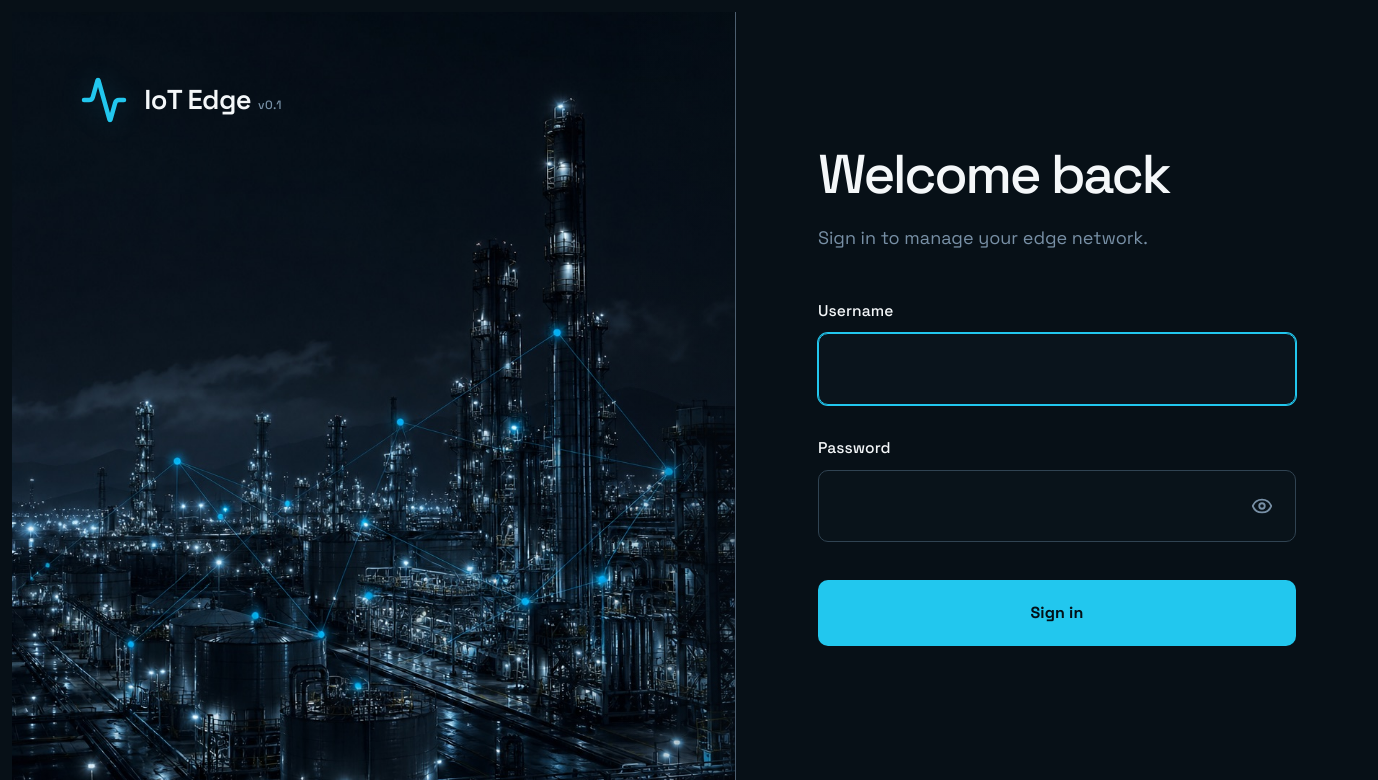
Scenario: LoginPage › clears partial session state and shows an API error
This screenshot has width=1378, height=780.
Type "admin" into the field labelled "Username". click: x=1057, y=369
box: top-left (818, 333), bottom-right (1296, 405)
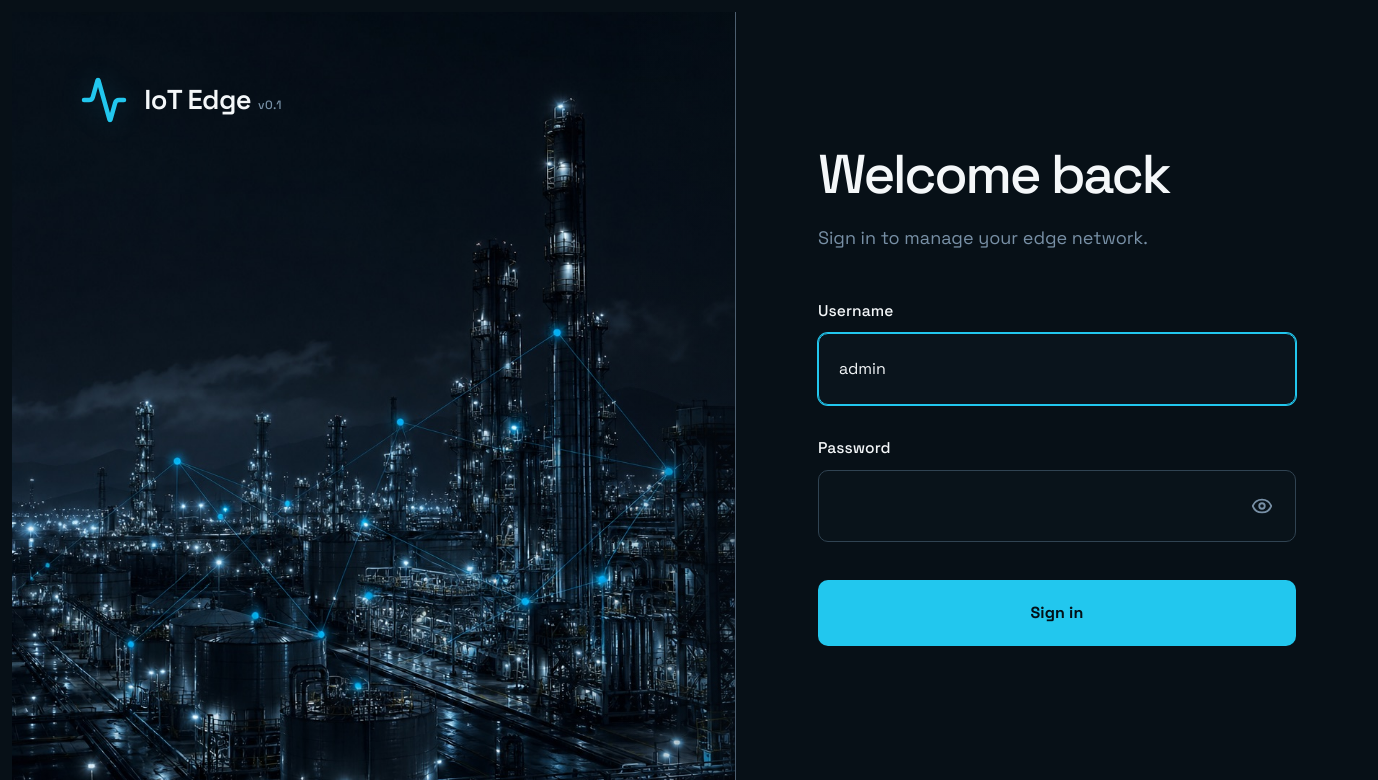
Type "wrong-password" into the password field labelled "Password". click: x=1057, y=506
box: top-left (818, 470), bottom-right (1296, 542)
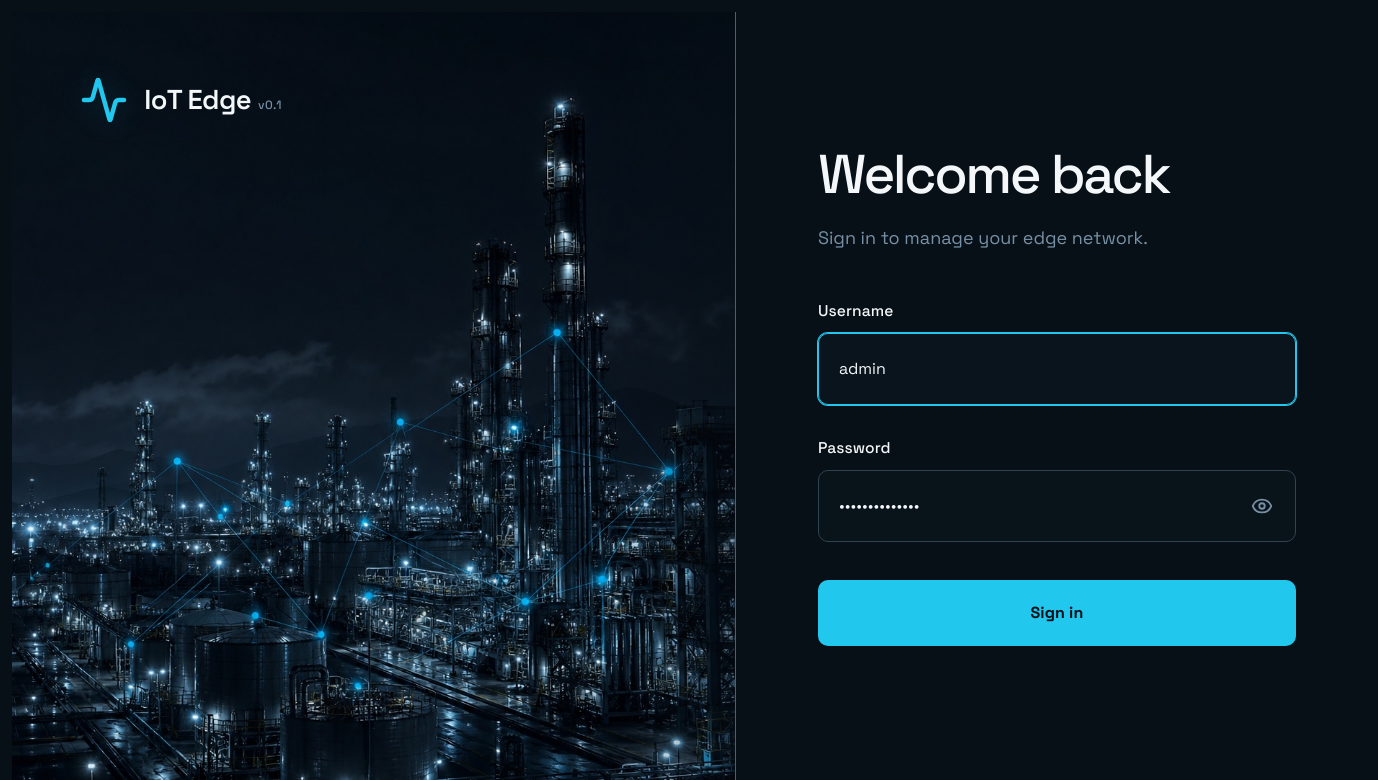
Click the button "Sign in". click: x=1057, y=613
box: top-left (818, 580), bottom-right (1296, 646)
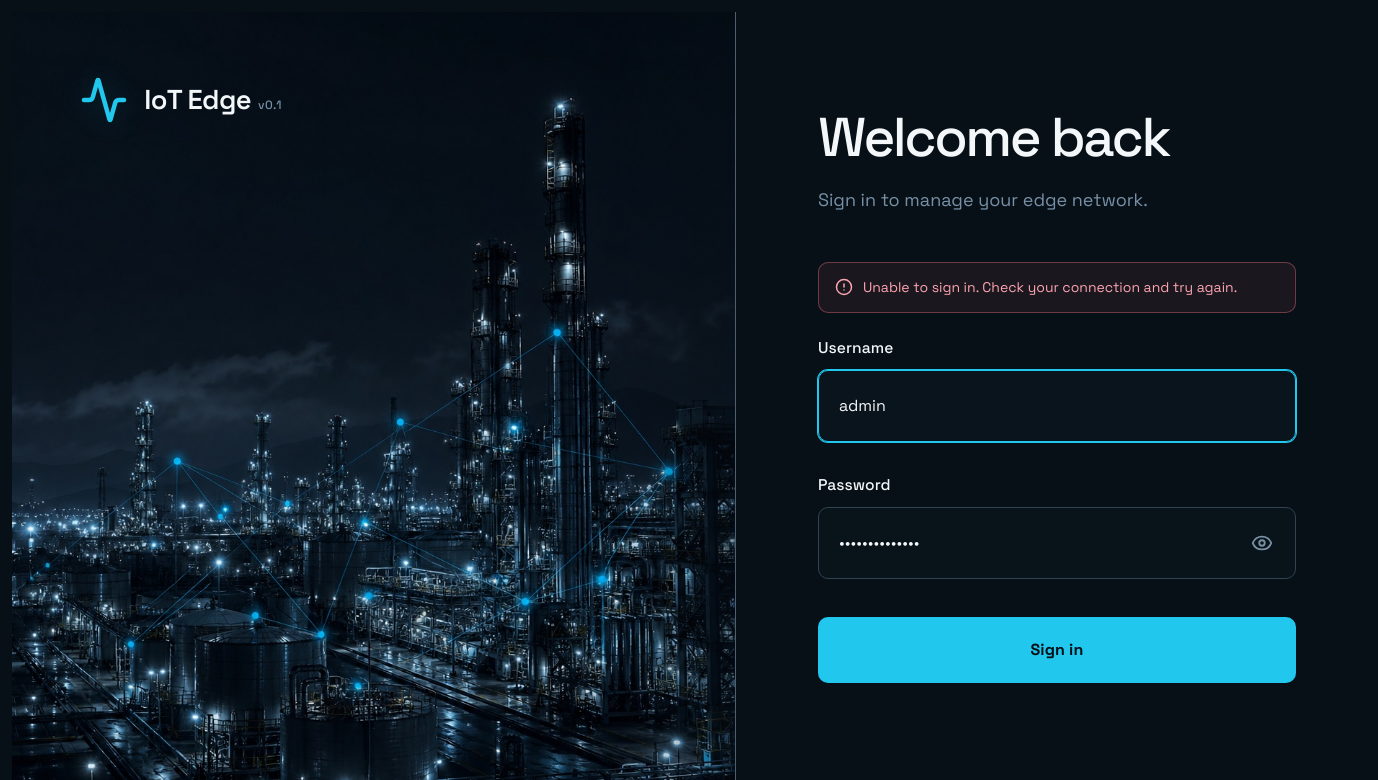
expect the message reads "Unable to sign in. Check your connection and try again.": met, box top-left (863, 278), bottom-right (1237, 296)
